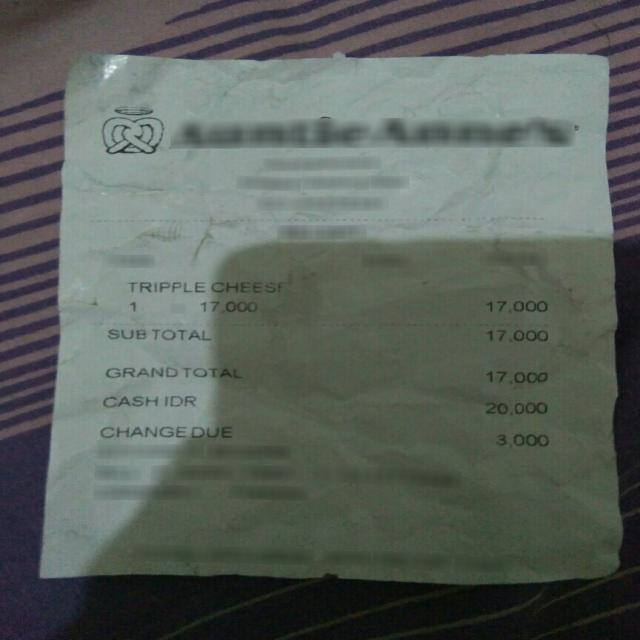kertas: (41, 54, 622, 584)
